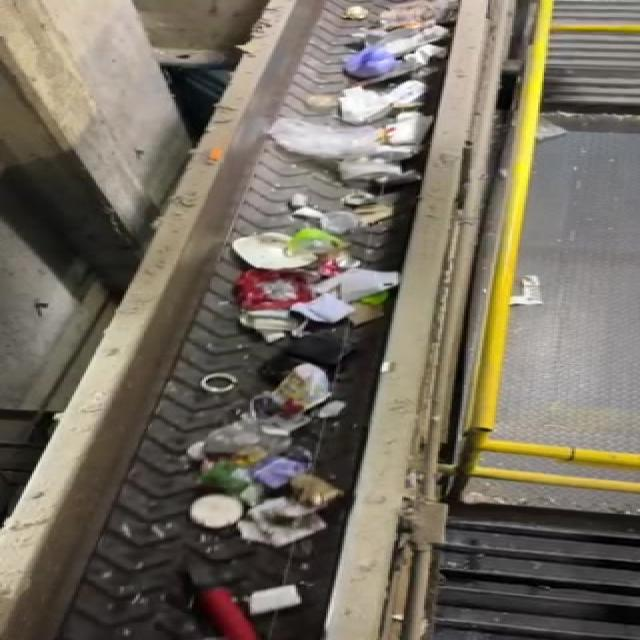pp: (245, 585, 323, 619)
